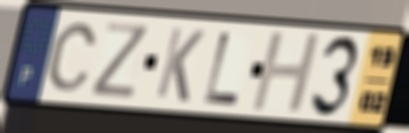3: (306, 33, 363, 119)
C: (44, 20, 100, 94)
H: (248, 31, 324, 115)
K: (153, 25, 207, 106)
L: (201, 29, 243, 108)
Z: (87, 20, 152, 101)
